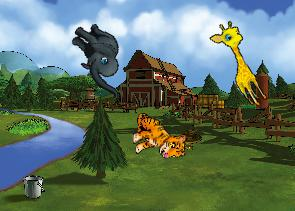elephant: (55, 17, 143, 99)
giraffe: (206, 17, 278, 110)
tiger: (131, 113, 186, 159)
